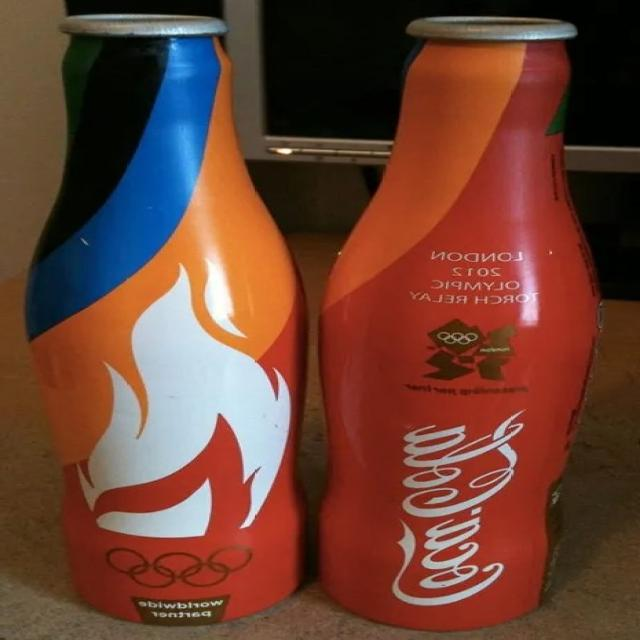coca cola: (365, 400, 538, 613)
